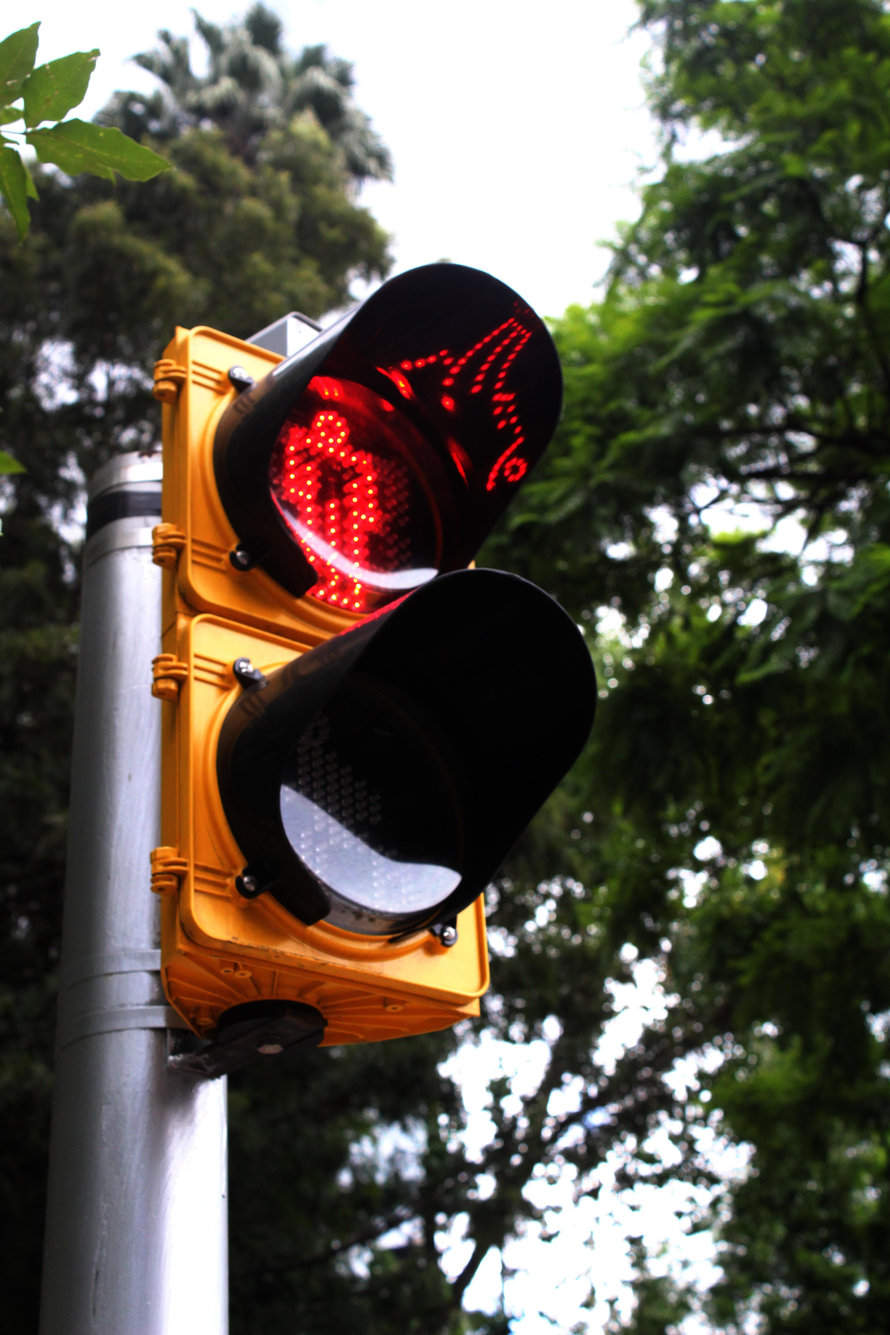red: (75, 268, 618, 999)
